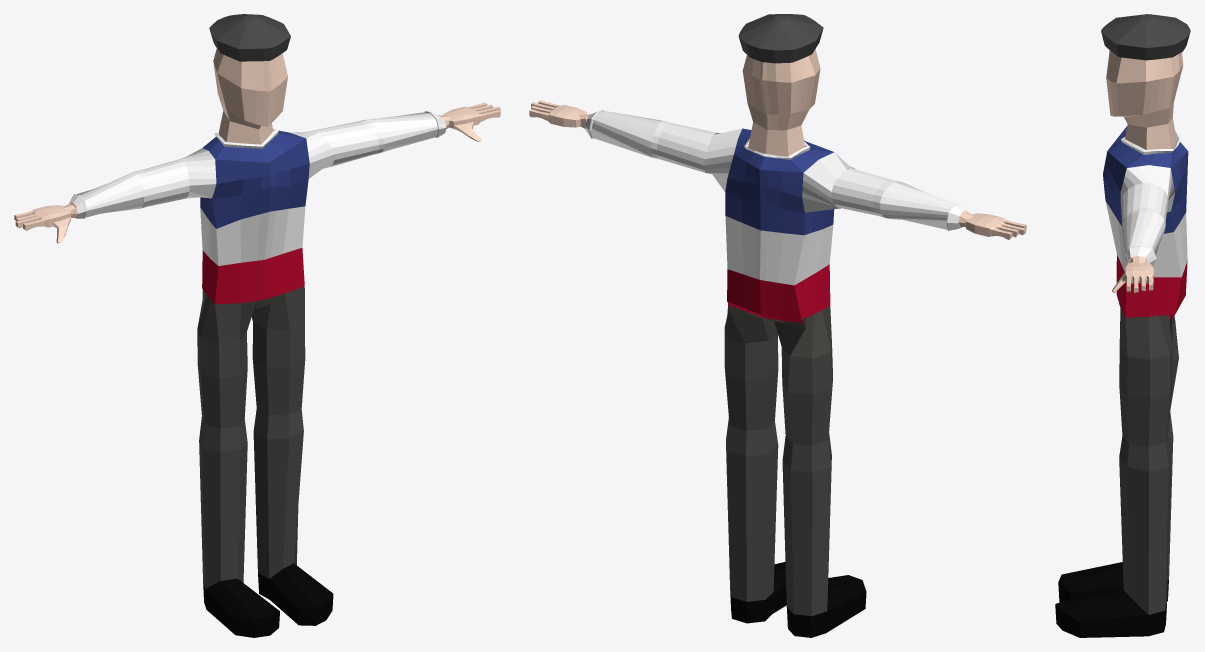
File: npc2BD.fbx
The picture shows the model from 3 angles, left to right: view 1: azimuth 30°, elevation 25°; view 2: azimuth 150°, elevation 25°; view 3: azimuth 270°, elevation 25°; orthographic projection. The views are drawn at different scales.
Visible parts, largest first — view 1: Cube.002; view 2: Cube.002; view 3: Cube.002.
Part boxes in pixels (left/top/right/bottom): Cube.002: left=14, top=14, right=500, bottom=637; Cube.002: left=529, top=14, right=1026, bottom=637; Cube.002: left=1055, top=14, right=1190, bottom=637.
Bounding box in the file's own units: 230 × 267 × 55.09.
